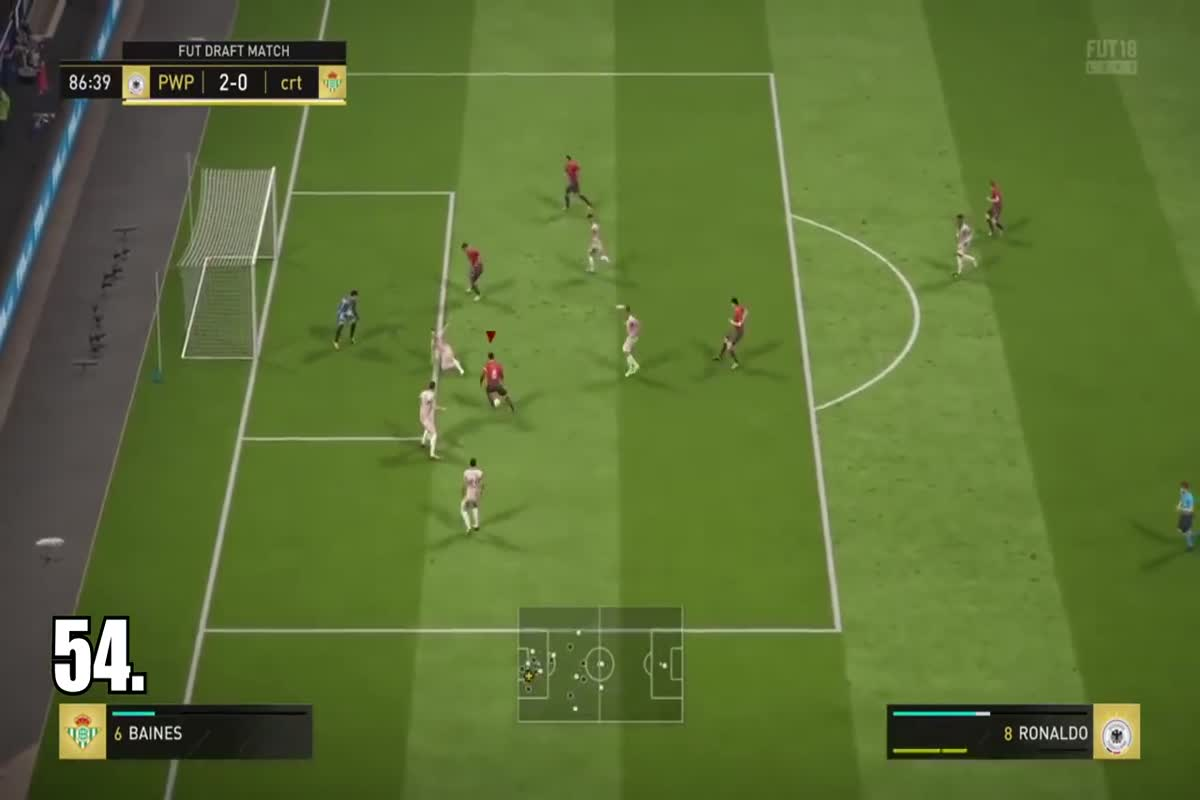ball: (490, 395, 506, 413)
